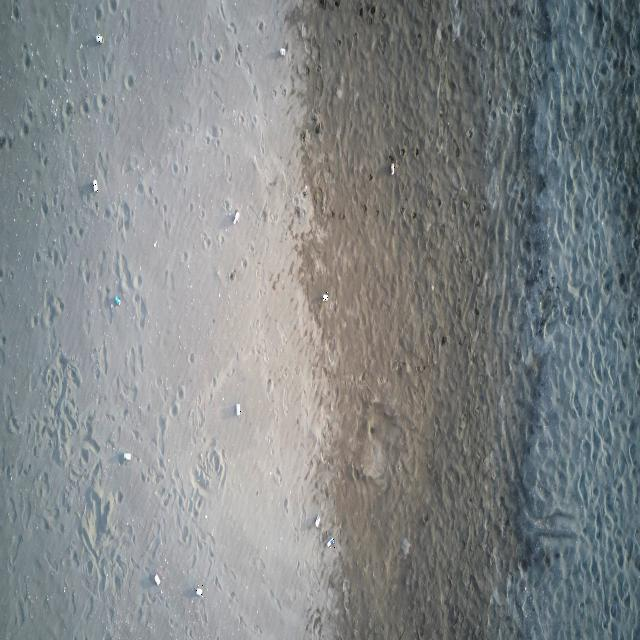tin-and-aluminum-cans: (233, 209, 240, 227), (94, 34, 105, 44), (195, 584, 204, 596), (327, 537, 335, 549), (315, 514, 321, 529), (123, 452, 132, 461), (390, 160, 395, 176), (93, 178, 98, 194), (236, 404, 241, 418), (154, 574, 160, 585), (115, 295, 121, 306), (322, 291, 328, 301), (280, 47, 286, 56)
